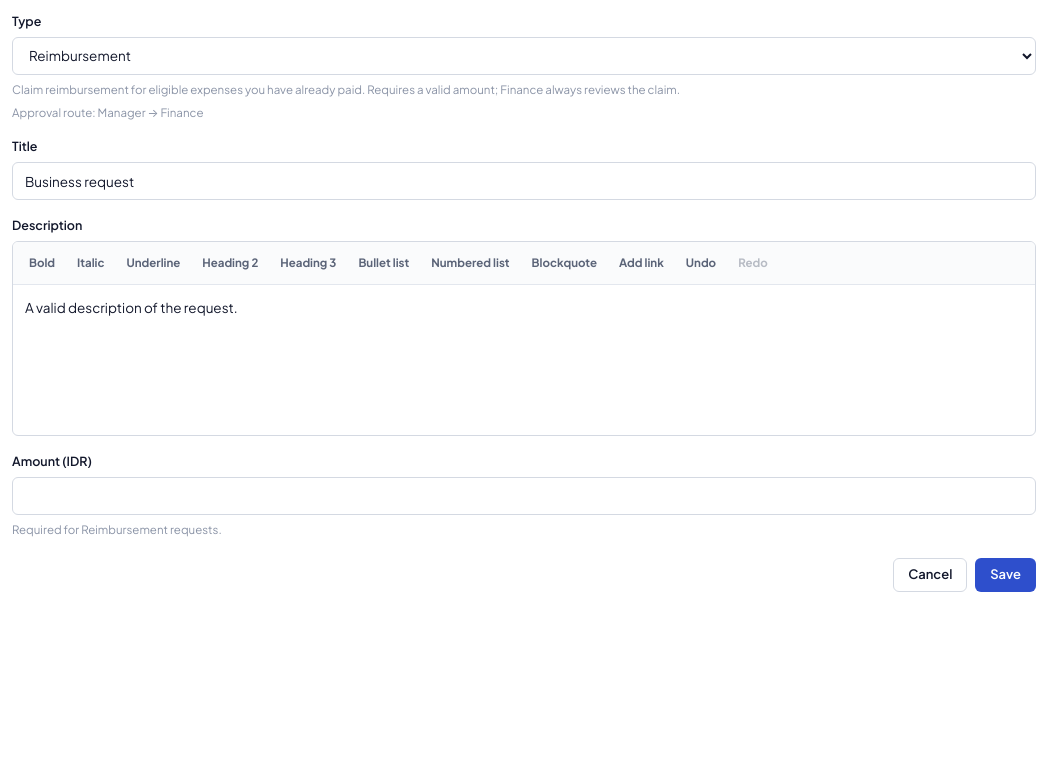
Test: type-specific amount validation (M3) › rejects the amount -5
Type "-5" into the number field labelled "Amount (IDR)".
click(524, 496); type("-5")  # box [12,476,1036,514]
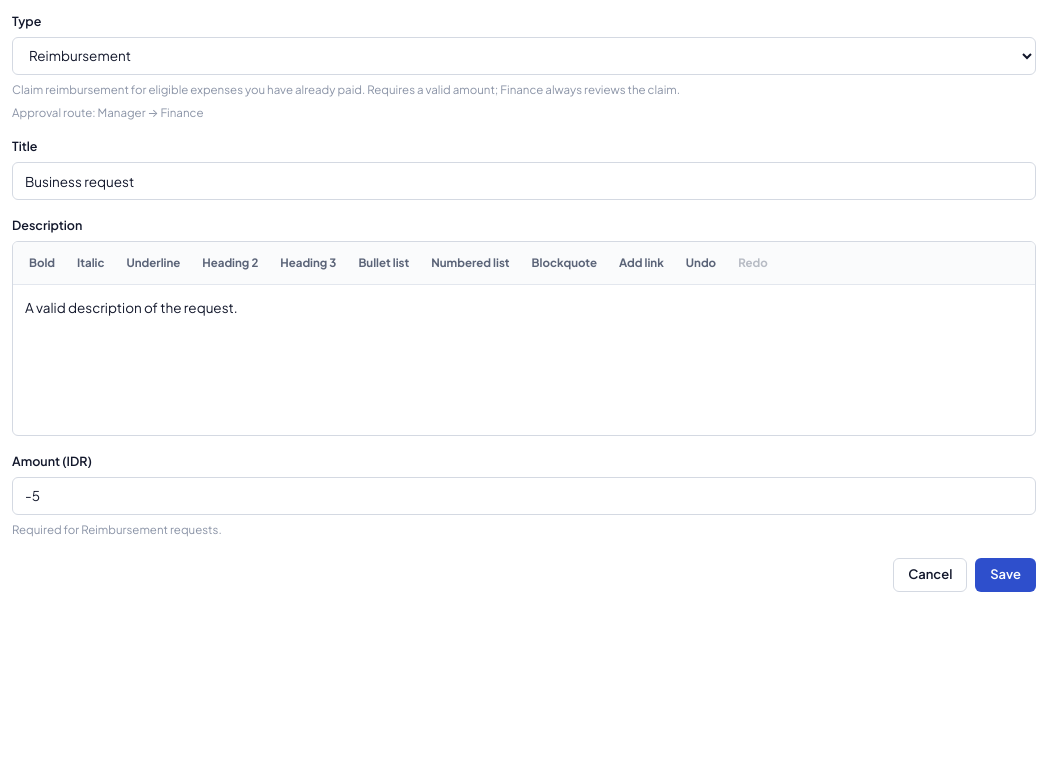
Click the button "Save".
click(1006, 575)  # box [975,558,1036,592]
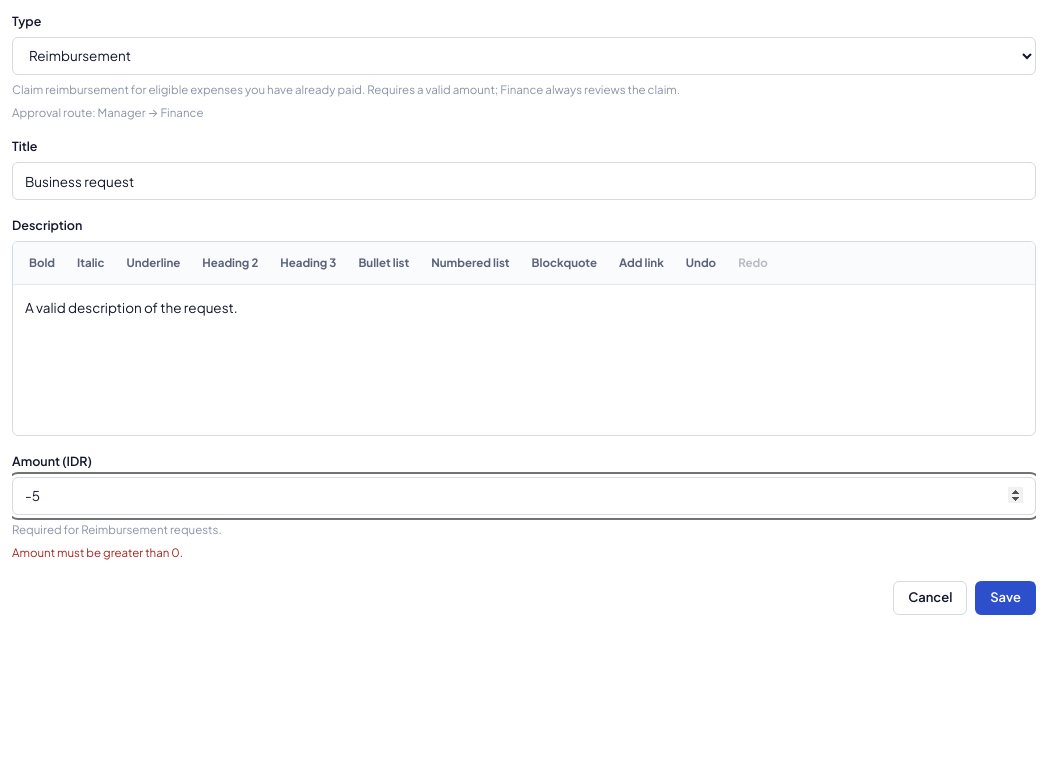
Check: the text "Amount must be greater than 0." is shown, box [12,545,183,560]
